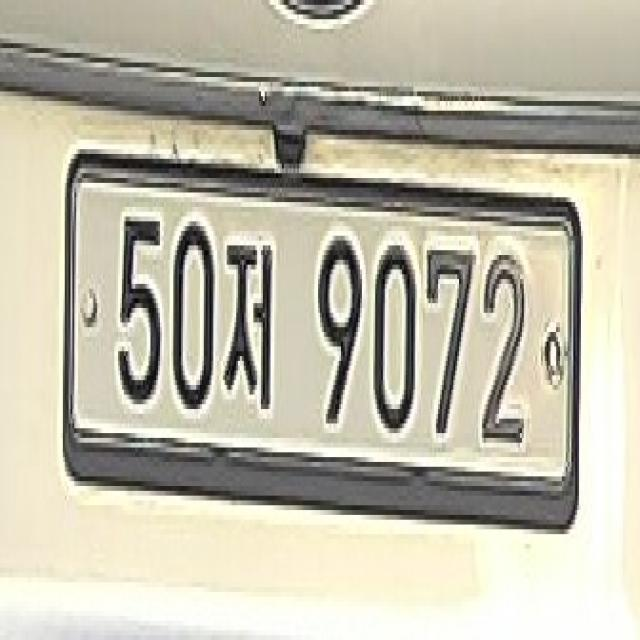0: (370, 235, 420, 444), (170, 210, 216, 422)
2: (478, 247, 529, 457)
5: (113, 210, 165, 414)
7: (424, 237, 474, 456)
9: (317, 223, 367, 440)
jeo: (222, 215, 278, 425)
license_plate: (51, 143, 601, 565)
